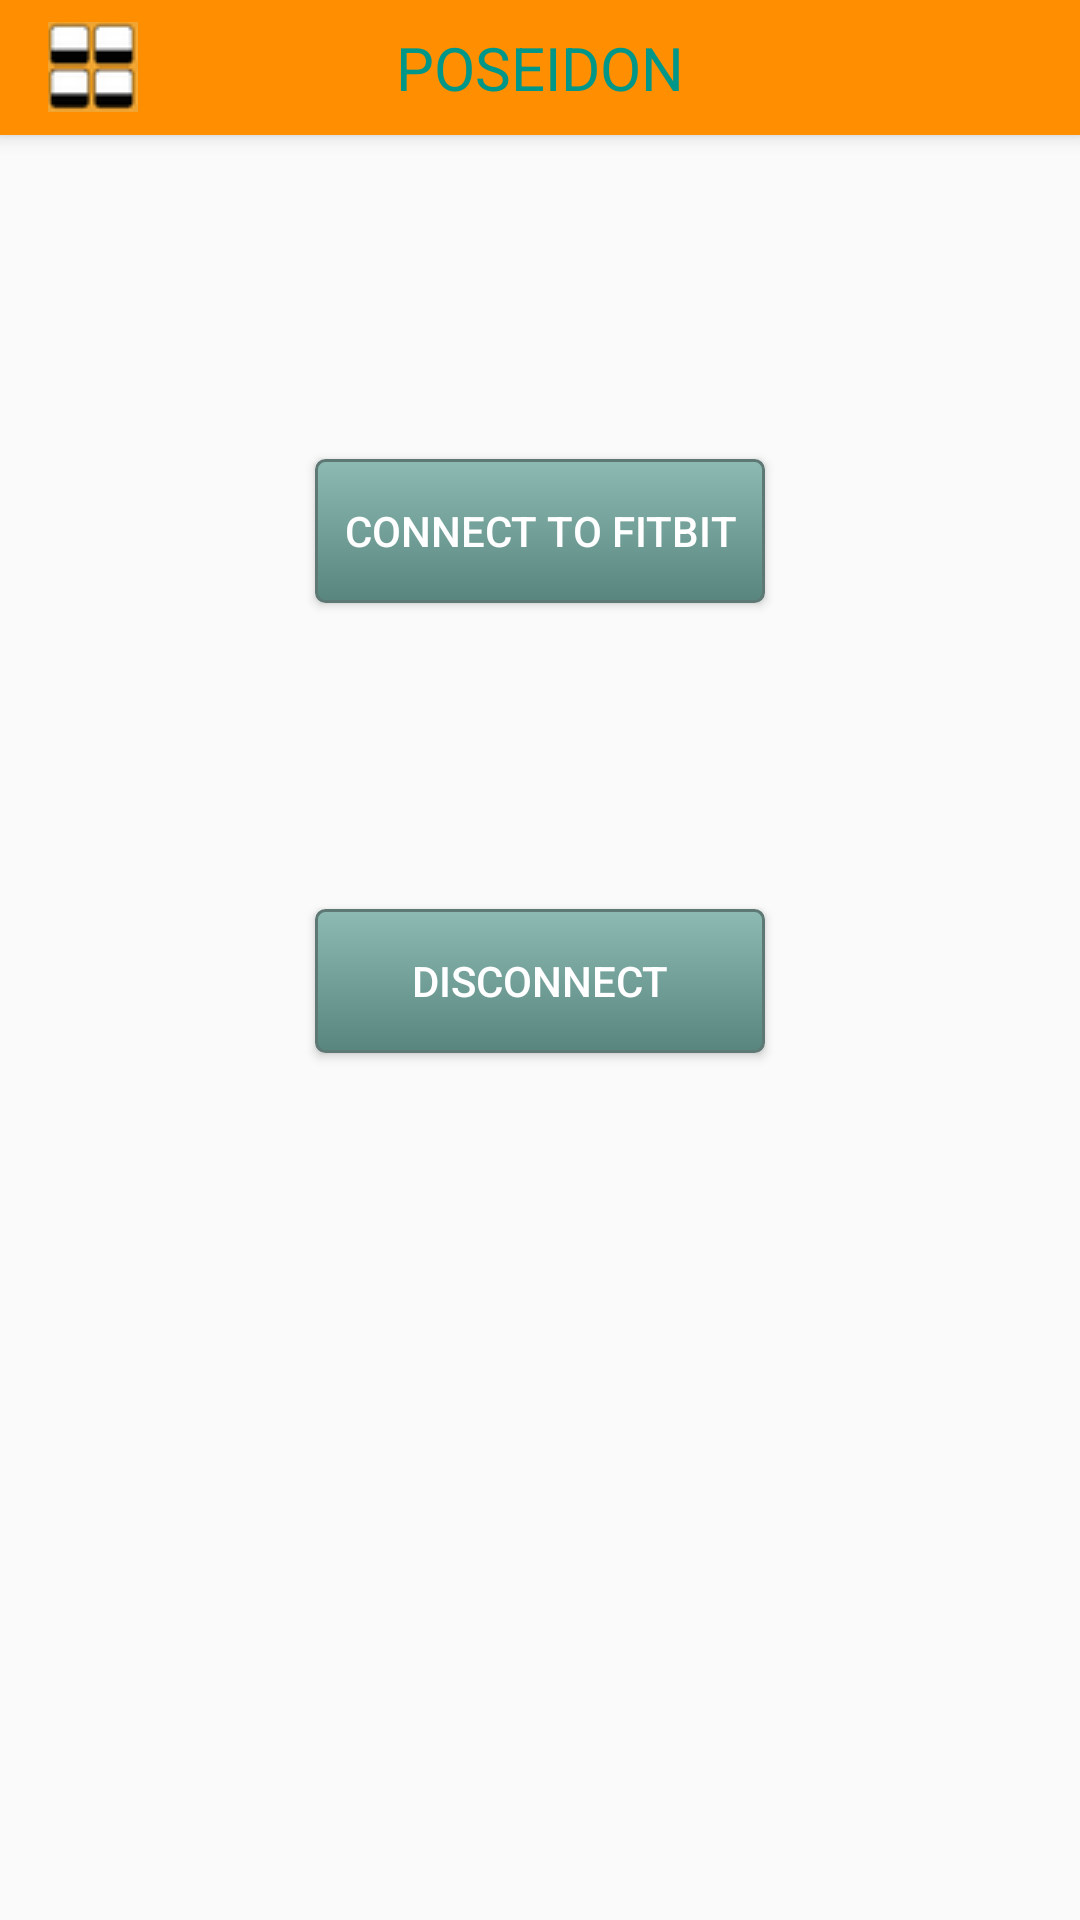

Screen size 1080 × 1920. Icon name, then its center in pixels as (x,y):
homebutton: (93,67)
